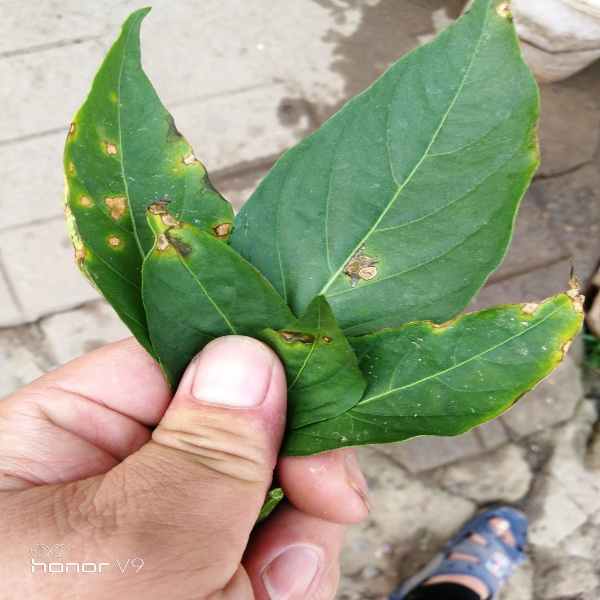Anthrax: (64, 124, 234, 263), (425, 292, 585, 428), (336, 239, 386, 289), (268, 324, 345, 354), (491, 1, 515, 29)
